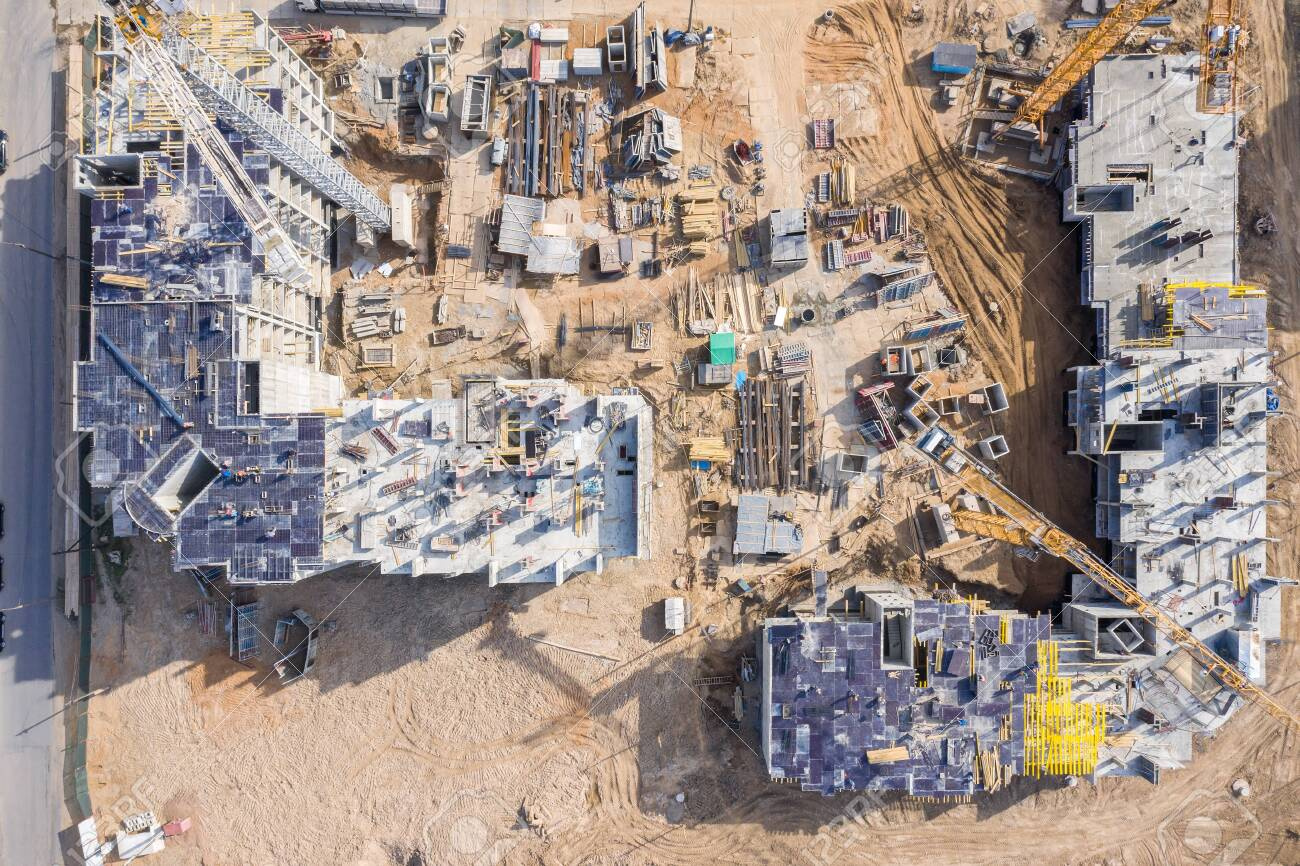crane: (966, 464, 1299, 736), (119, 8, 390, 289), (989, 4, 1236, 145)
